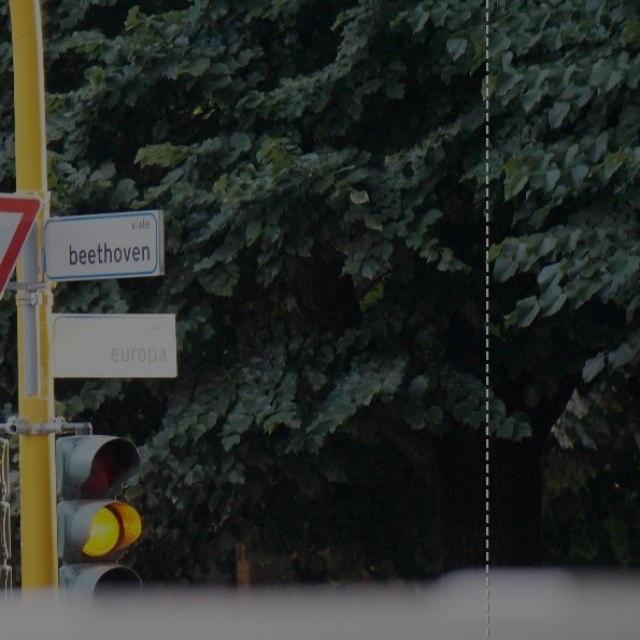Yellow: (51, 435, 136, 640)
